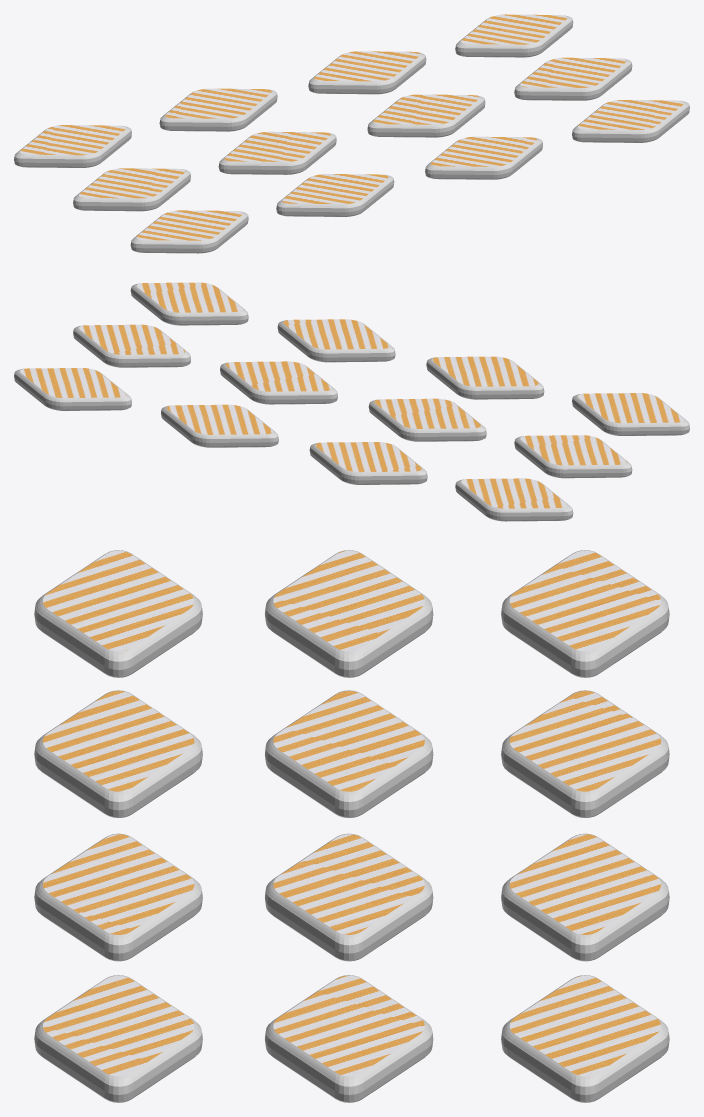
Rendered from DiamondPlatfom.fbx.
The picture shows the model from 3 angles, top to bottom: view 1: azimuth 30°, elevation 25°; view 2: azimuth 150°, elevation 25°; view 3: azimuth 270°, elevation 25°; orthographic projection. The views are drawn at different scales.
Parts seen in each view (by area): view 1: Cube.009; view 2: Cube.009; view 3: Cube.009.
Boxes of the visible parts, left/top/right/bottom form: Cube.009: left=14, top=14, right=689, bottom=253; Cube.009: left=14, top=282, right=689, bottom=521; Cube.009: left=34, top=550, right=669, bottom=1102.
Bounding box in the file's own units: 1741 × 48.93 × 859.
Materials: 2 (1 with a texture image).
